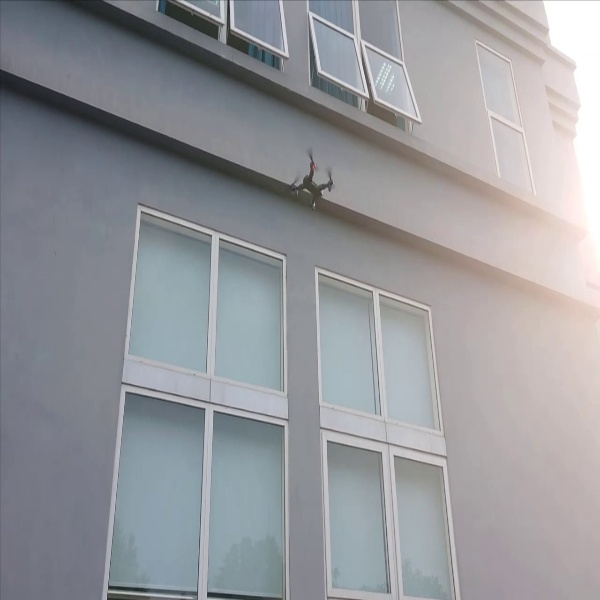drone: (276, 147, 343, 212)
